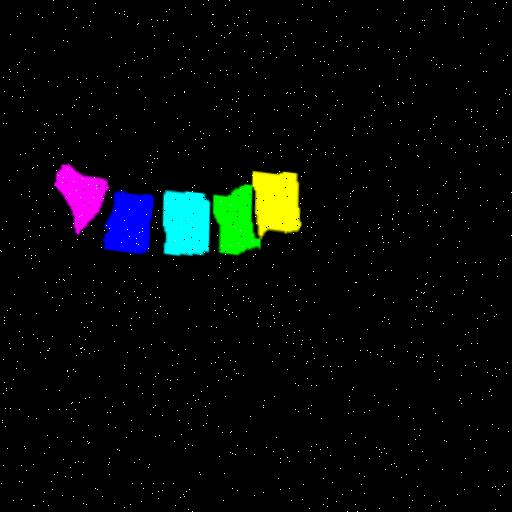L2: (248, 170, 296, 237)
L3: (208, 183, 256, 254)
L4: (158, 190, 206, 255)
L5: (99, 191, 149, 253)
S1: (52, 164, 103, 234)
